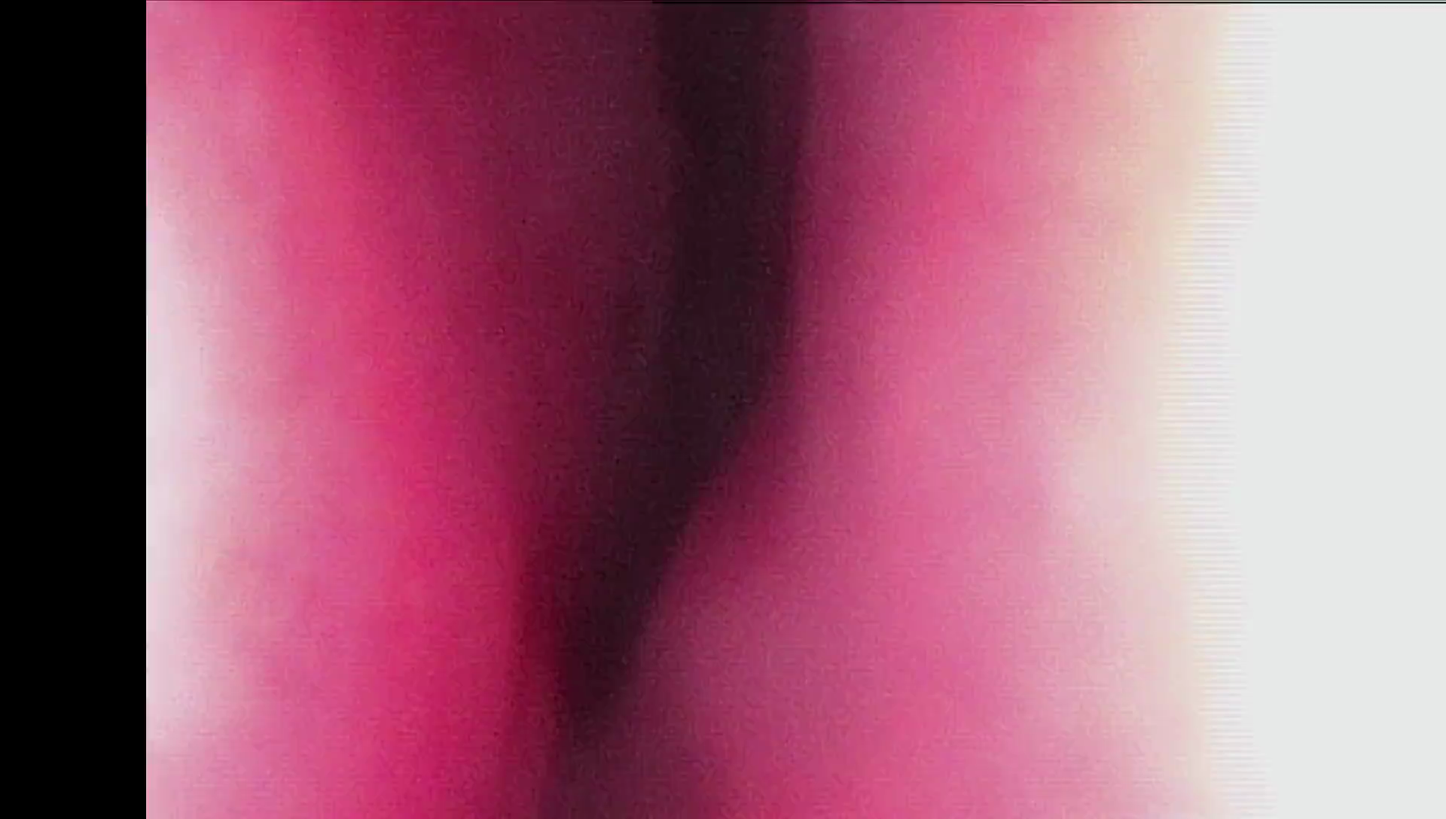close_wall: (876, 8, 1446, 819), (149, 96, 453, 819)
next: (523, 285, 819, 781), (618, 25, 824, 450)
